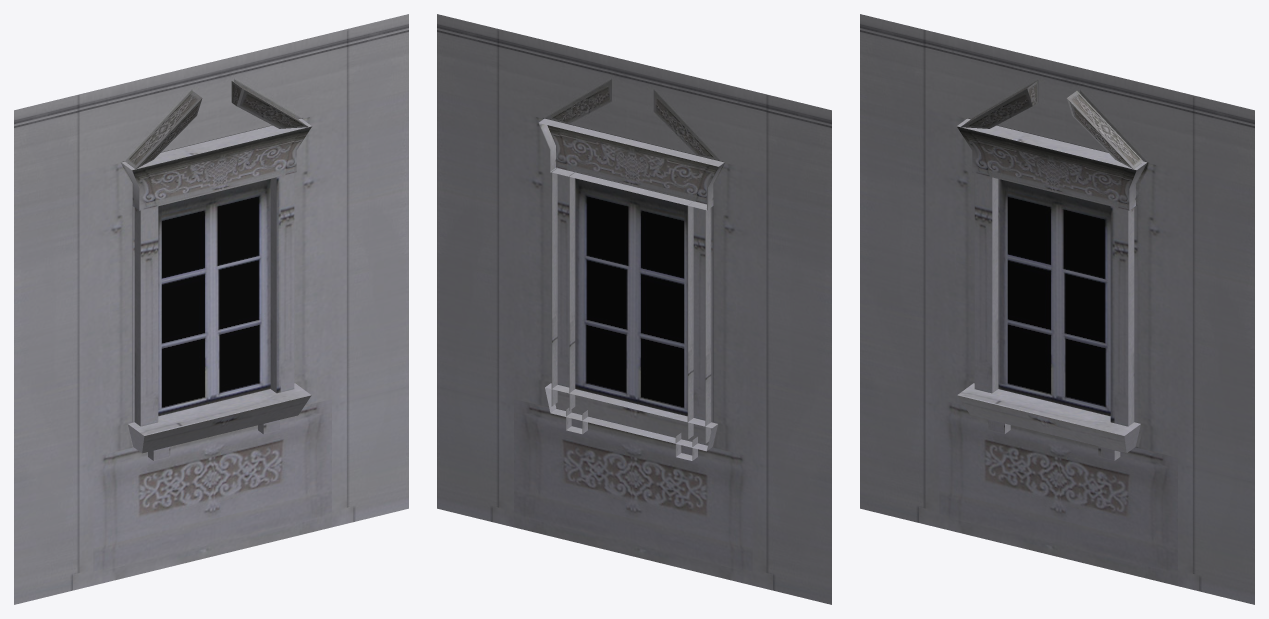
Rendered from win1.obj.
The picture shows the model from 3 angles, left to right: view 1: azimuth 30°, elevation 25°; view 2: azimuth 150°, elevation 25°; view 3: azimuth 330°, elevation 25°; orthographic projection.
Parts seen in each view (by area): view 1: polySurface136; view 2: polySurface136; view 3: polySurface136.
Boxes of the visible parts, x1,y1,x2,y2 form: polySurface136: (14, 14, 408, 604); polySurface136: (437, 14, 831, 604); polySurface136: (860, 14, 1254, 604).
Bounding box in the file's own units: 1 × 1.2 × 0.0995.
1 material, 1 textured.
